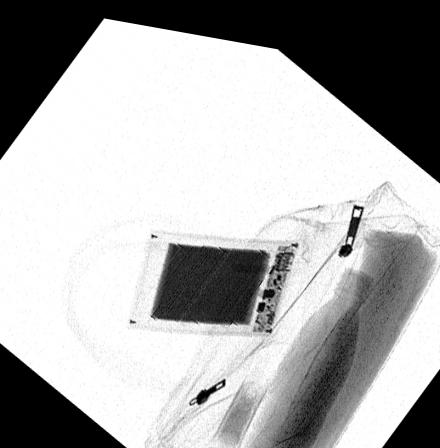Powerbank: (126, 225, 303, 327)
